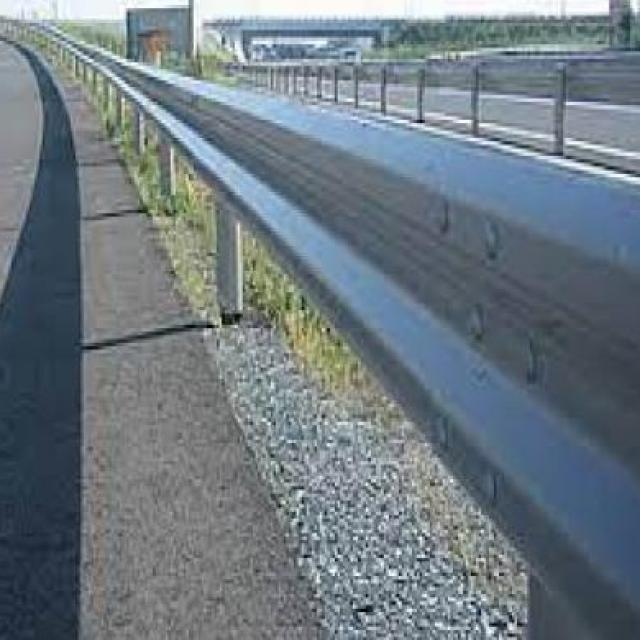Guard rail: (79, 29, 640, 640)
